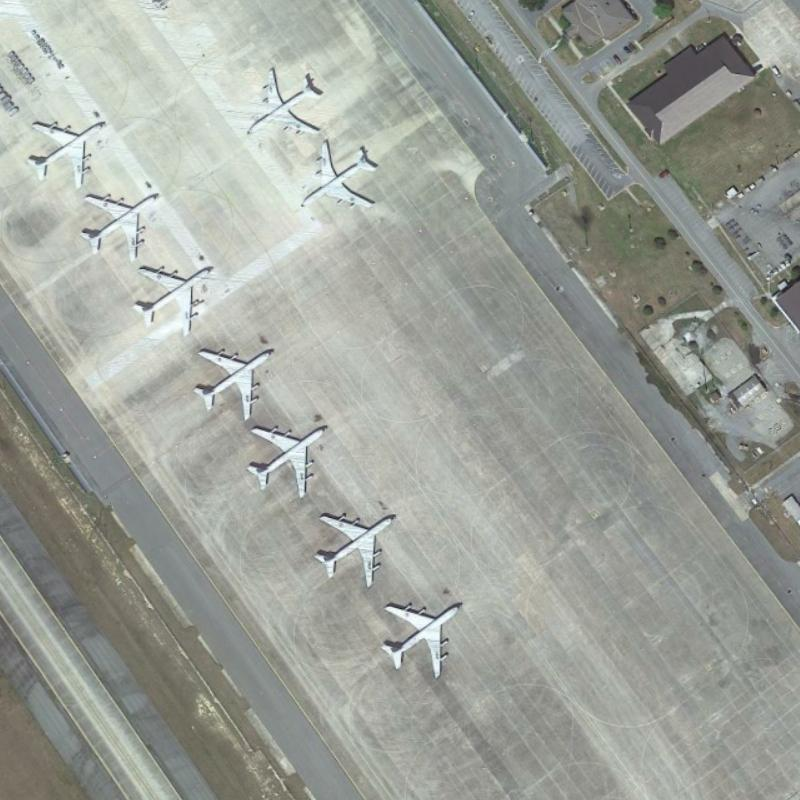A11: (311, 508, 398, 592), (378, 599, 464, 681), (244, 421, 331, 499), (192, 345, 278, 422), (130, 261, 215, 338), (21, 115, 108, 190), (294, 136, 379, 211), (243, 63, 325, 137), (80, 190, 159, 262)
